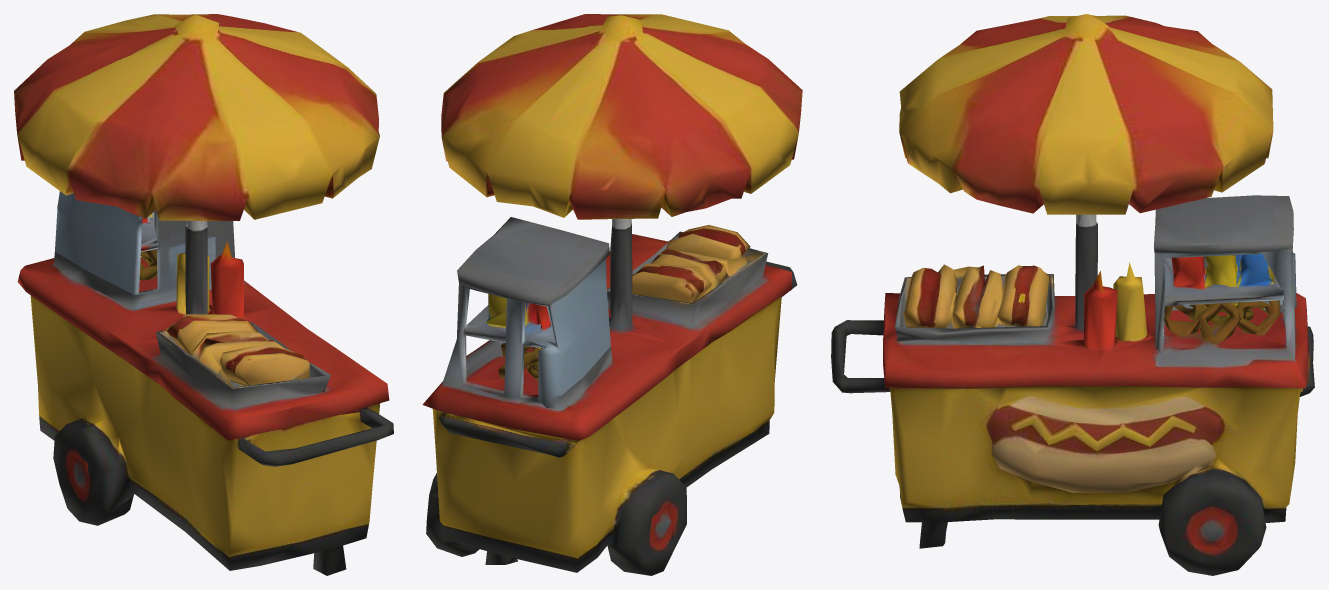
File: food-cart.glb
3 renders of one model, left to right at view 1: azimuth 30°, elevation 25°; view 2: azimuth 150°, elevation 25°; view 3: azimuth 270°, elevation 25°, orthographic.
Visible parts, largest first — view 1: tripo_node_63e28d25-ccb5-425c-a398-798bb61e7598; view 2: tripo_node_63e28d25-ccb5-425c-a398-798bb61e7598; view 3: tripo_node_63e28d25-ccb5-425c-a398-798bb61e7598.
Part boxes in pixels (left/top/right/bottom): tripo_node_63e28d25-ccb5-425c-a398-798bb61e7598: left=14, top=14, right=393, bottom=575; tripo_node_63e28d25-ccb5-425c-a398-798bb61e7598: left=422, top=14, right=802, bottom=575; tripo_node_63e28d25-ccb5-425c-a398-798bb61e7598: left=831, top=14, right=1314, bottom=575.
Size of the model in its own units: 0.6264 by 1 by 0.8533.
1 material, 1 textured.
